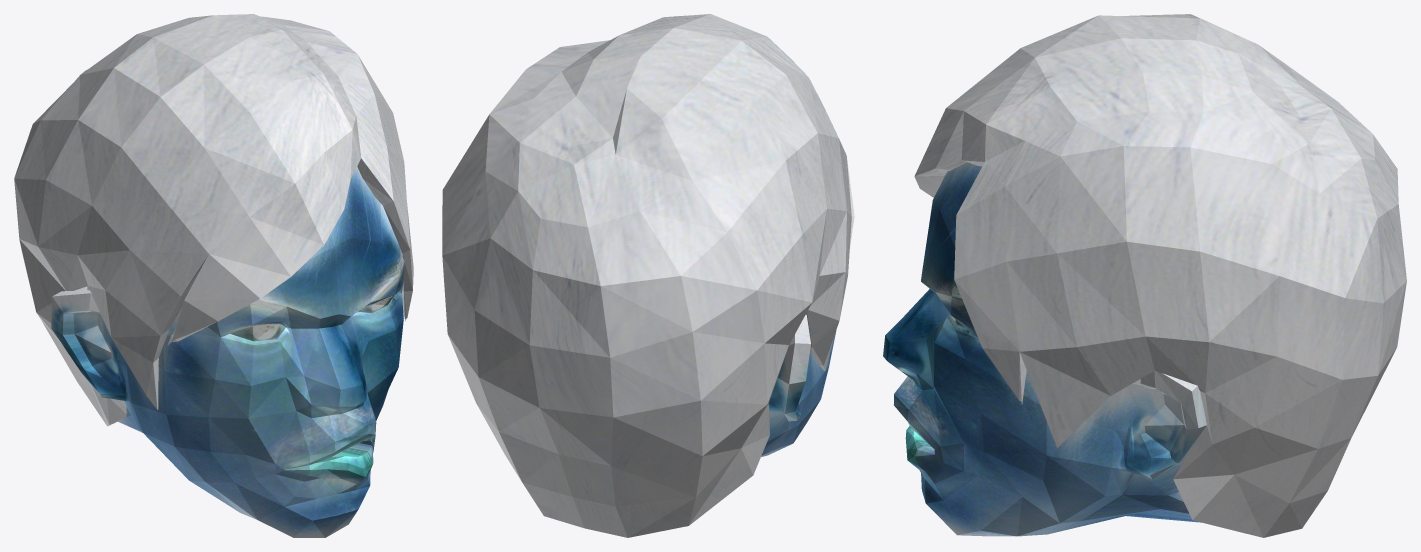
Rendered from mae_04_do.dae.
The picture shows the model from 3 angles, left to right: view 1: azimuth 30°, elevation 25°; view 2: azimuth 150°, elevation 25°; view 3: azimuth 270°, elevation 25°; orthographic projection. The views are drawn at different scales.
Visible parts, largest first — view 1: Mesh; view 2: Mesh; view 3: Mesh.
Boxes of the visible parts, bbox=[...] form: Mesh: bbox=[14, 14, 413, 537]; Mesh: bbox=[442, 14, 854, 537]; Mesh: bbox=[883, 14, 1406, 537].
Bounding box in the file's own units: 2 × 2.5 × 2.43.
1 material, 1 textured.
